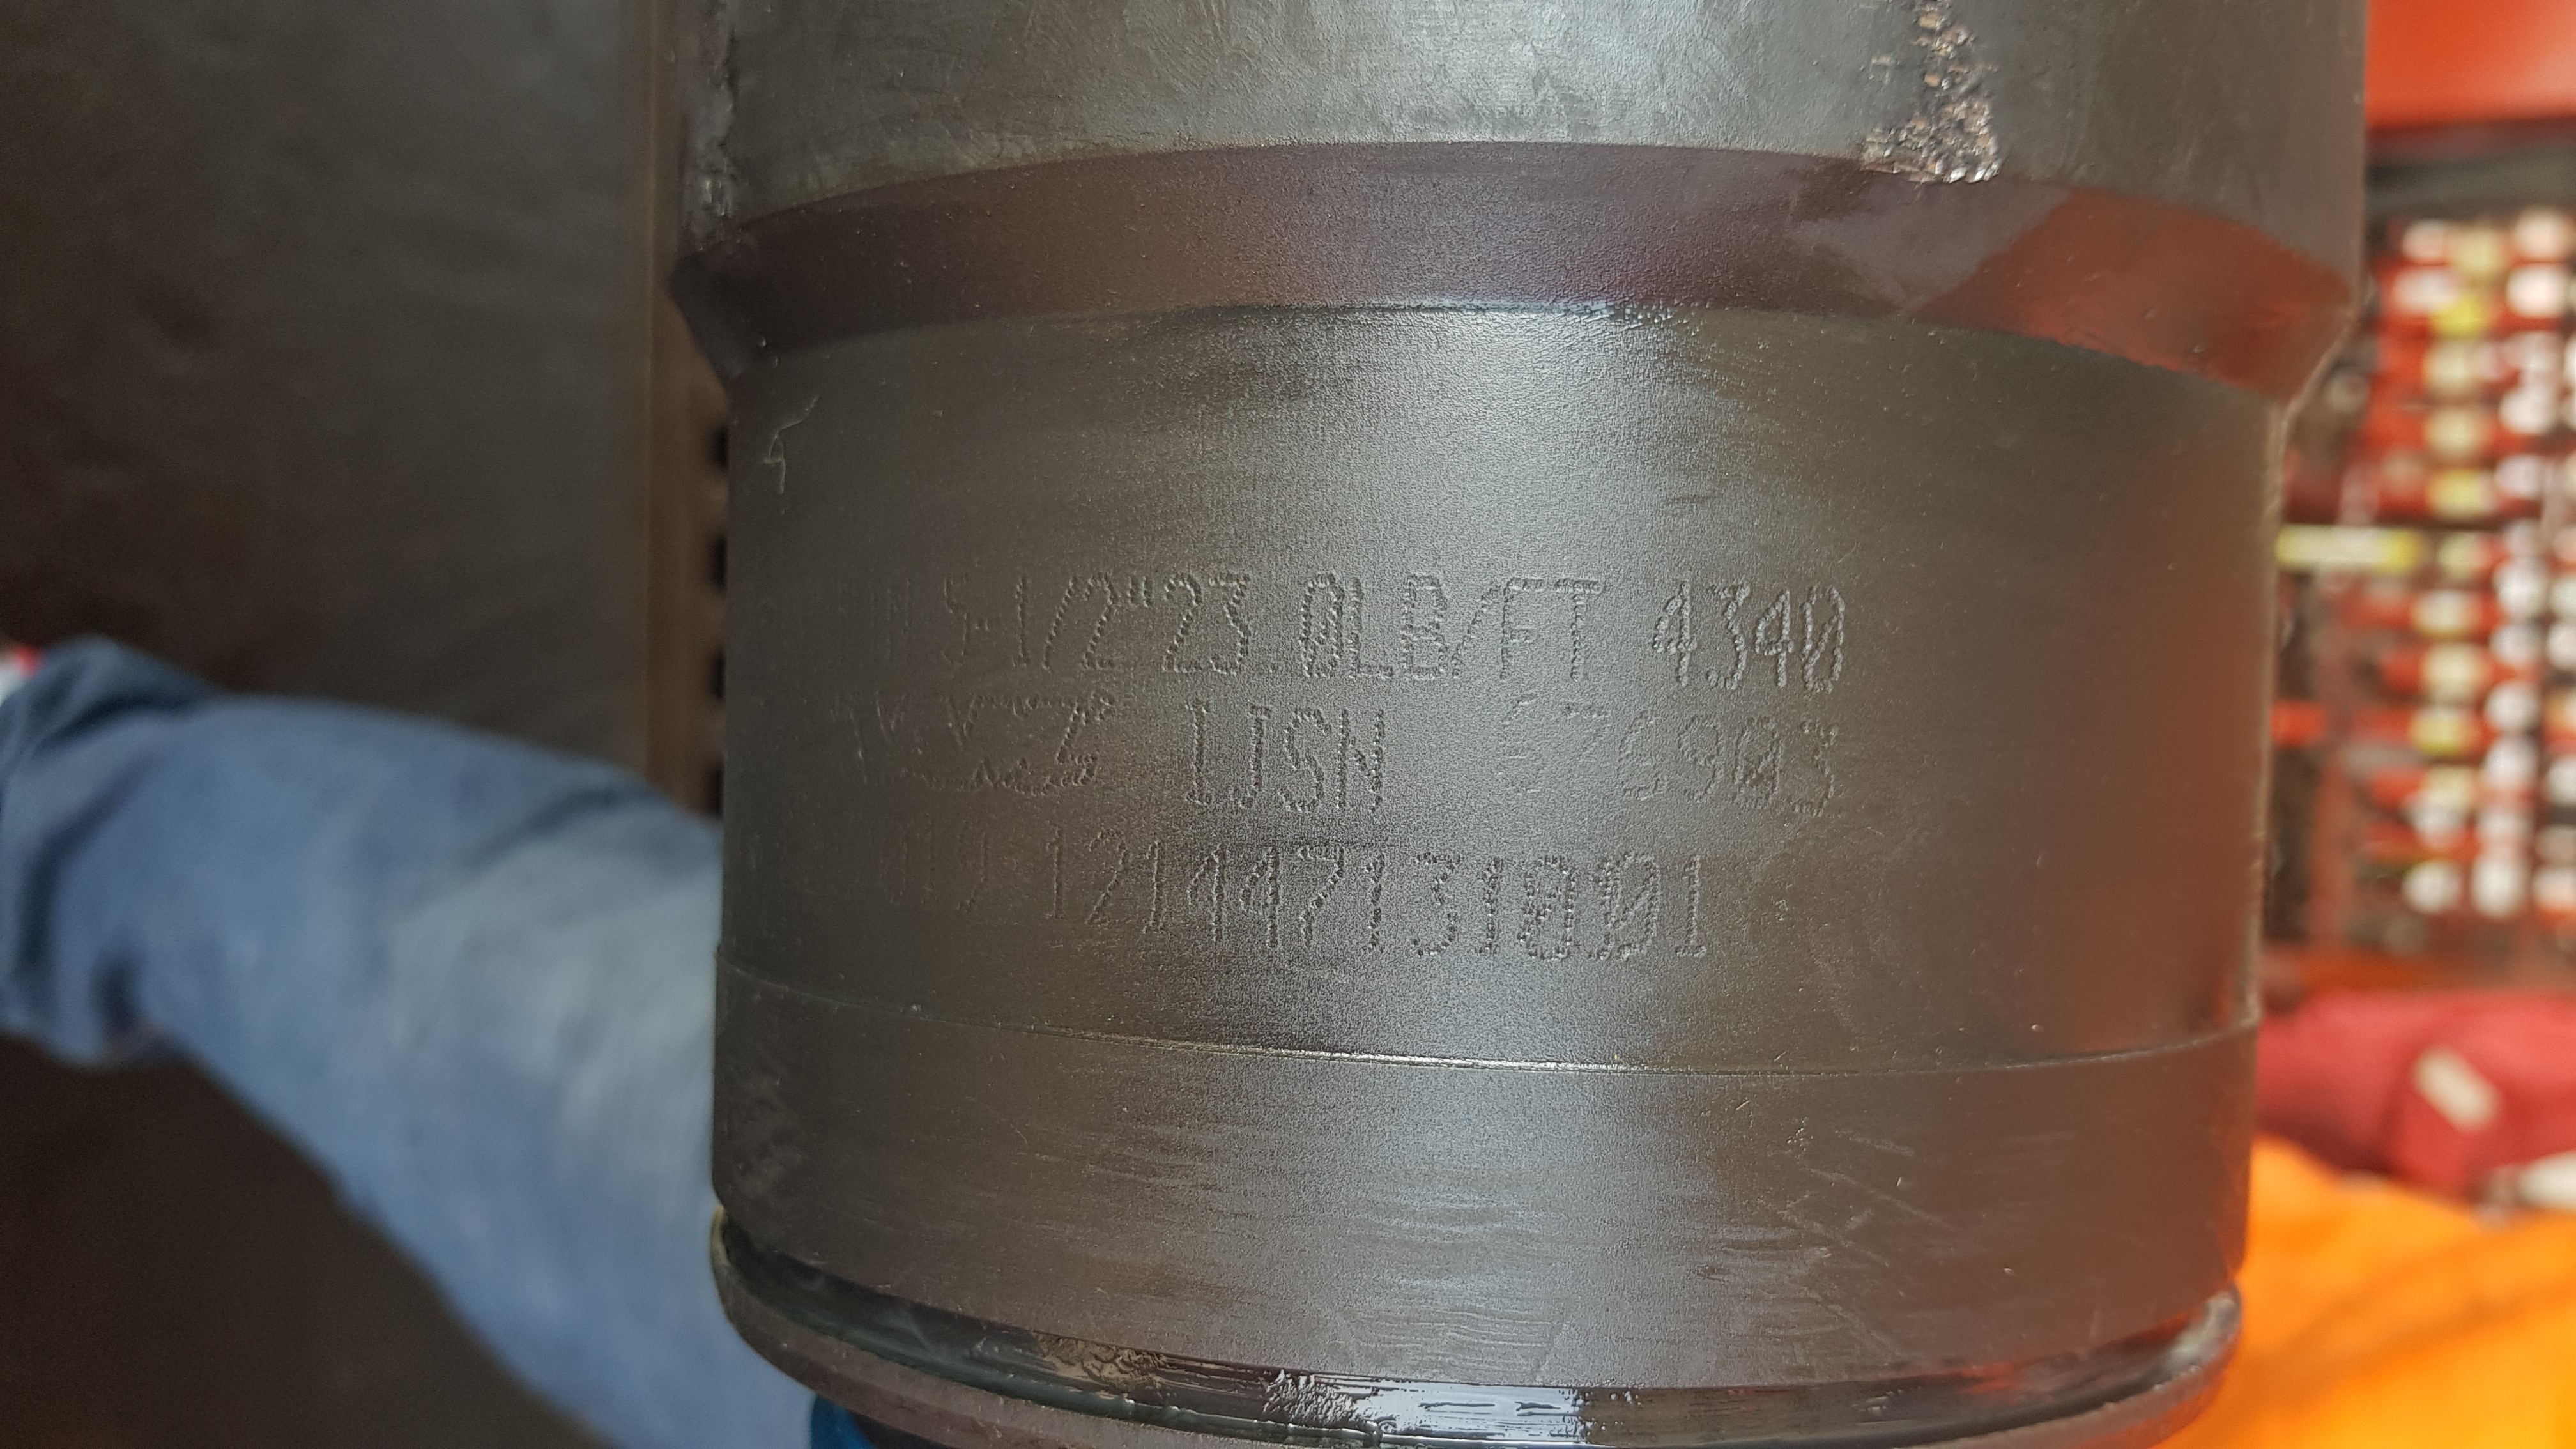character: (1405, 849, 1474, 959), (1277, 701, 1341, 817), (1725, 708, 1792, 817), (1792, 575, 1849, 701), (1177, 840, 1240, 952), (1329, 701, 1389, 816), (1522, 849, 1578, 971), (1548, 566, 1606, 683), (1235, 833, 1290, 957), (1394, 570, 1454, 681), (1612, 704, 1674, 809), (1288, 840, 1345, 954), (1702, 577, 1755, 697), (1670, 847, 1718, 980), (1293, 570, 1350, 681), (1555, 697, 1612, 805), (1491, 688, 1548, 796), (1670, 713, 1732, 810), (1647, 577, 1702, 686), (1783, 713, 1838, 821), (1343, 575, 1398, 683), (1178, 692, 1228, 810), (1612, 844, 1658, 968), (1748, 579, 1798, 692), (1157, 570, 1207, 681), (1081, 828, 1132, 934), (1228, 699, 1276, 812), (1495, 566, 1543, 679), (1203, 570, 1254, 674), (1136, 835, 1177, 948), (1077, 570, 1122, 672), (934, 570, 980, 667), (1472, 853, 1511, 966), (1035, 570, 1079, 667), (1585, 853, 1622, 968), (1451, 577, 1495, 672), (1355, 851, 1392, 959), (1040, 823, 1076, 929), (1005, 573, 1044, 667)
